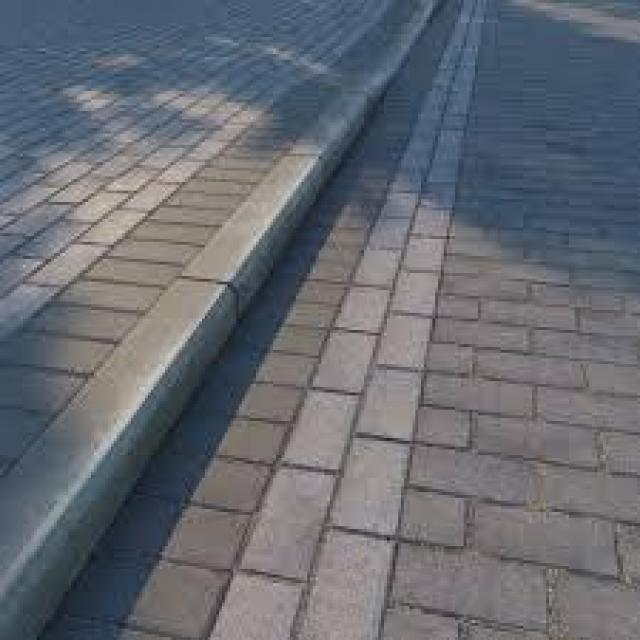curb: (2, 309, 209, 640), (144, 209, 292, 352), (232, 117, 379, 204)
